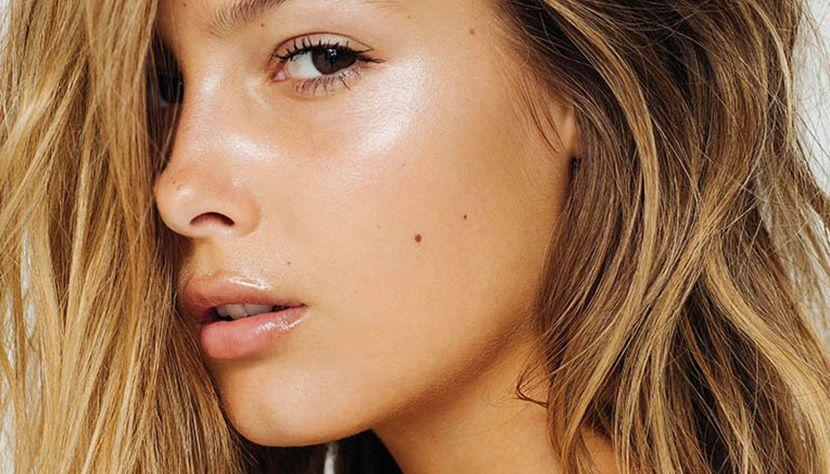Oily-Skin: (212, 256, 320, 301), (359, 109, 449, 158), (221, 139, 283, 204), (172, 62, 249, 102)
